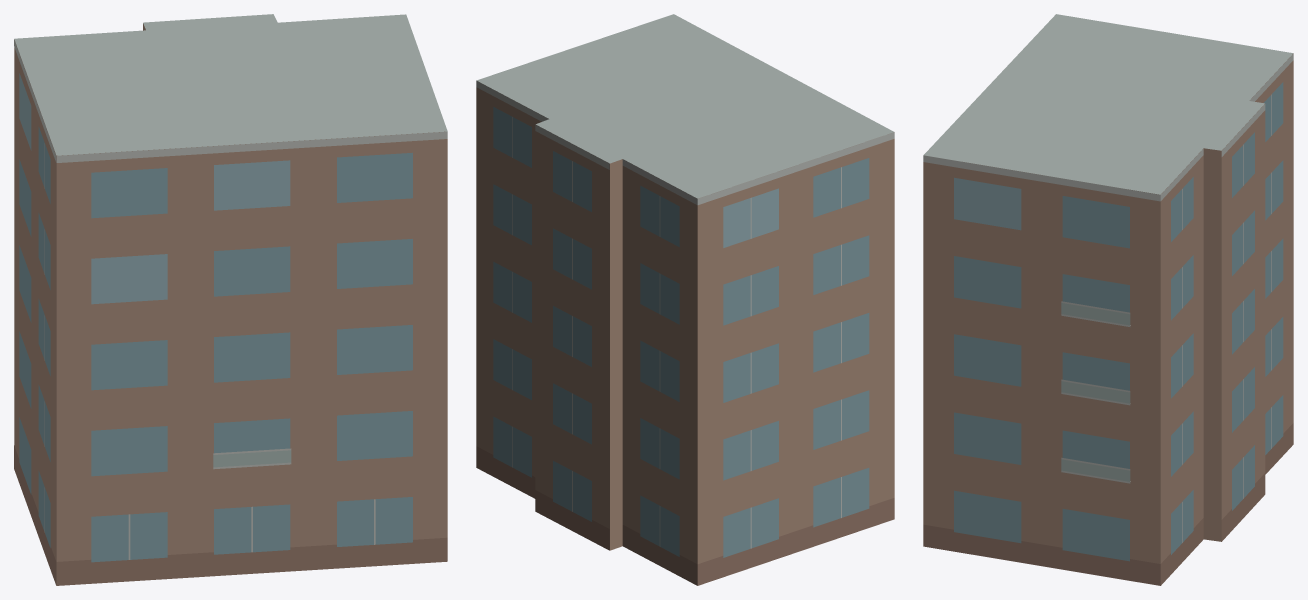
The model's file is survey-upis-32878822.glb.
3 renders of one model, left to right at view 1: azimuth 30°, elevation 25°; view 2: azimuth 150°, elevation 25°; view 3: azimuth 270°, elevation 25°, orthographic. The views are drawn at different scales.
Parts seen in each view (by area): view 1: survey-upis-32878822.tmp; view 2: survey-upis-32878822.tmp; view 3: survey-upis-32878822.tmp.
Part boxes in pixels (x1,y1,x2,y2): survey-upis-32878822.tmp: [14, 14, 447, 585]; survey-upis-32878822.tmp: [476, 14, 894, 585]; survey-upis-32878822.tmp: [923, 14, 1293, 585].
Bounding box in the file's own units: 14.08 × 14.2 × 12.19.
